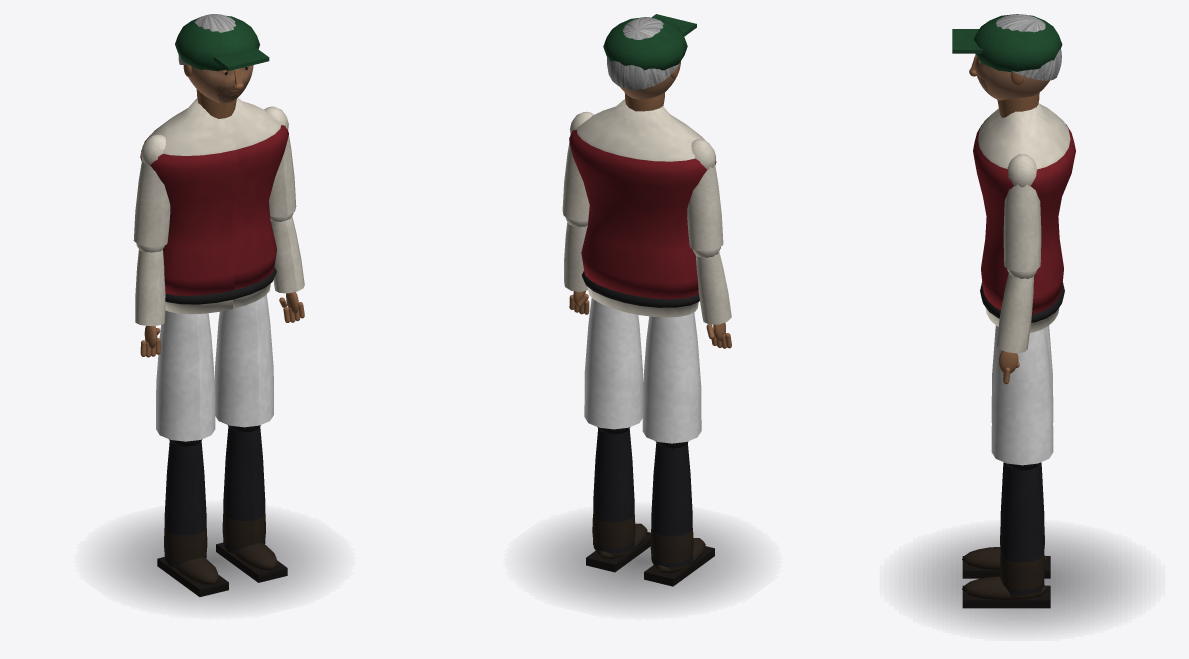
Rendered from npc_lou.glb.
The picture shows the model from 3 angles, left to right: view 1: azimuth 30°, elevation 25°; view 2: azimuth 150°, elevation 25°; view 3: azimuth 270°, elevation 25°; orthographic projection. The views are drawn at different scales.
Visible parts, largest first — view 1: chest, object 11, legL, legR, shinL, shinR, head, armL, foreL, foreR, armR; view 2: chest, object 11, legL, legR, shinL, shinR, head, armL, foreL, foreR, armR; view 3: chest, object 11, shinR, head, legR, armR, foreR, shinL, legL.
Part boxes in pixels (x1,y1,x2,y2): chest: [140, 89, 288, 314]; object 11: [102, 512, 327, 607]; legL: [156, 310, 215, 441]; legR: [214, 294, 273, 427]; shinL: [157, 439, 228, 596]; shinR: [216, 425, 287, 582]; head: [175, 14, 269, 103]; armL: [133, 134, 170, 247]; foreL: [135, 243, 165, 357]; foreR: [270, 213, 304, 322]; armR: [264, 106, 296, 217]; chest: [569, 92, 716, 317]; object 11: [531, 514, 754, 607]; legL: [642, 312, 701, 443]; legR: [584, 298, 643, 429]; shinL: [644, 441, 714, 586]; shinR: [586, 427, 650, 572]; head: [603, 14, 696, 99]; armL: [687, 139, 723, 250]; foreL: [692, 247, 731, 348]; foreR: [564, 217, 589, 314]; armR: [562, 111, 593, 221]; chest: [973, 93, 1075, 332]; object 11: [908, 532, 1136, 628]; shinR: [962, 463, 1050, 608]; head: [952, 14, 1062, 100]; legR: [991, 327, 1053, 465]; armR: [1003, 154, 1041, 271]; foreR: [996, 269, 1037, 384]; shinL: [962, 462, 1050, 578]; legL: [991, 326, 1053, 422].
Size of the model in its own units: 0.868 by 1.79 by 0.868.
Materials: 6 (5 with a texture image).
